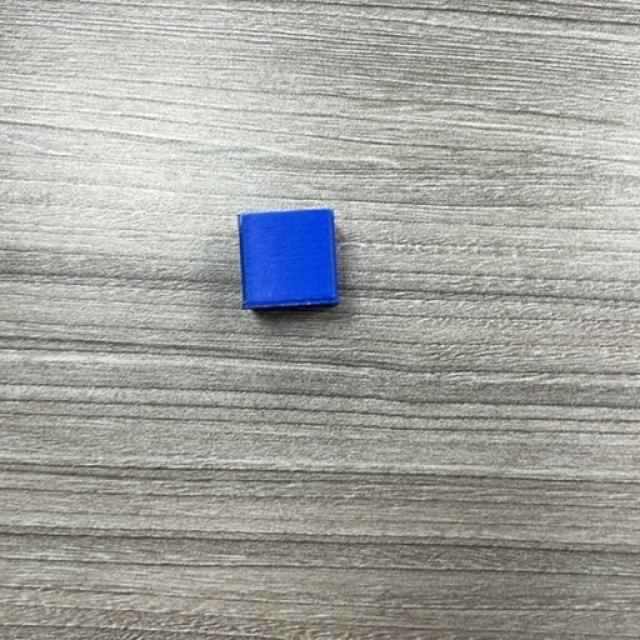Azul: (238, 209, 341, 312)
